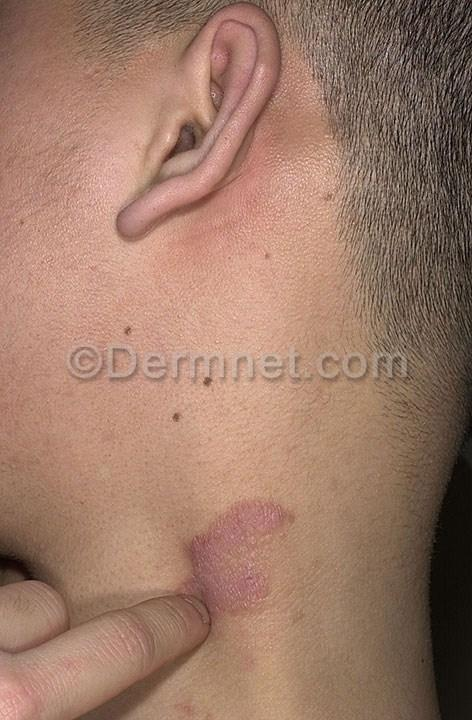Eczema: (167, 488, 318, 645)
